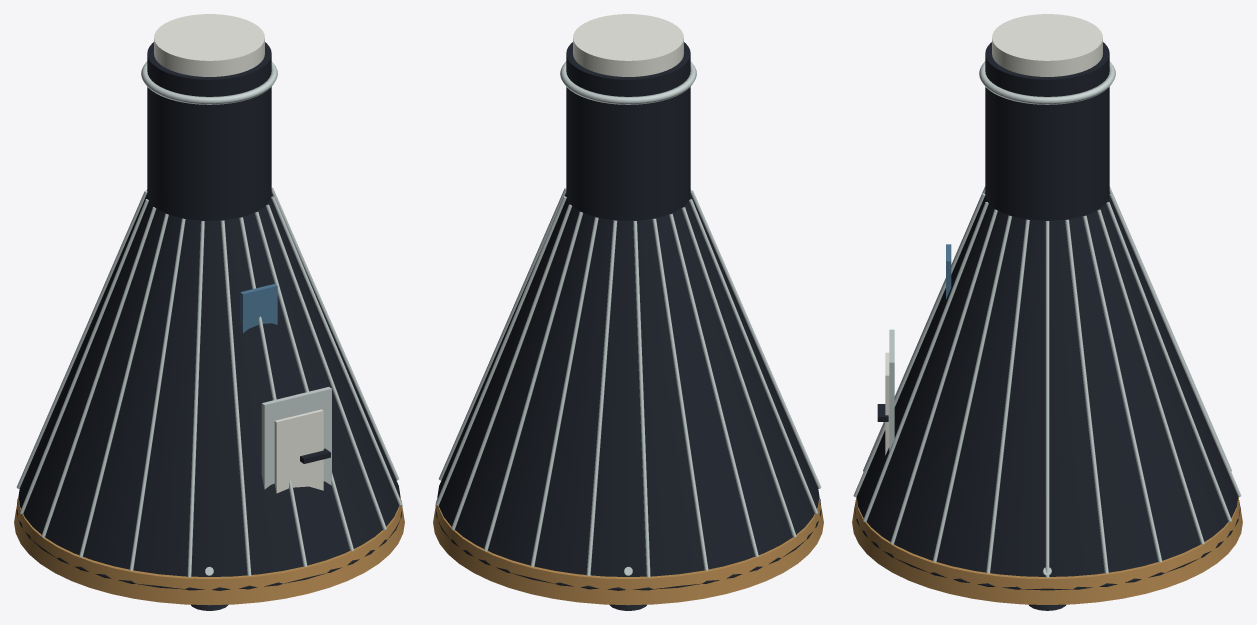
File: mercury.glb
3 views of the same model, side by side, from view 1: azimuth 30°, elevation 25°; view 2: azimuth 150°, elevation 25°; view 3: azimuth 270°, elevation 25° (orthographic).
Visible parts, largest first — view 1: crew, service, heatshield; view 2: crew, service, heatshield; view 3: crew, service, heatshield.
Boxes of the visible parts, bbox=[...] form: crew: bbox=[16, 187, 402, 577]; service: bbox=[141, 14, 277, 220]; heatshield: bbox=[14, 497, 404, 605]; crew: bbox=[435, 187, 821, 577]; service: bbox=[560, 14, 696, 220]; heatshield: bbox=[433, 497, 823, 605]; crew: bbox=[853, 186, 1241, 577]; service: bbox=[979, 14, 1115, 220]; heatshield: bbox=[852, 497, 1242, 604].
Bounding box in the file's own units: 1.76 × 2.69 × 1.76.
